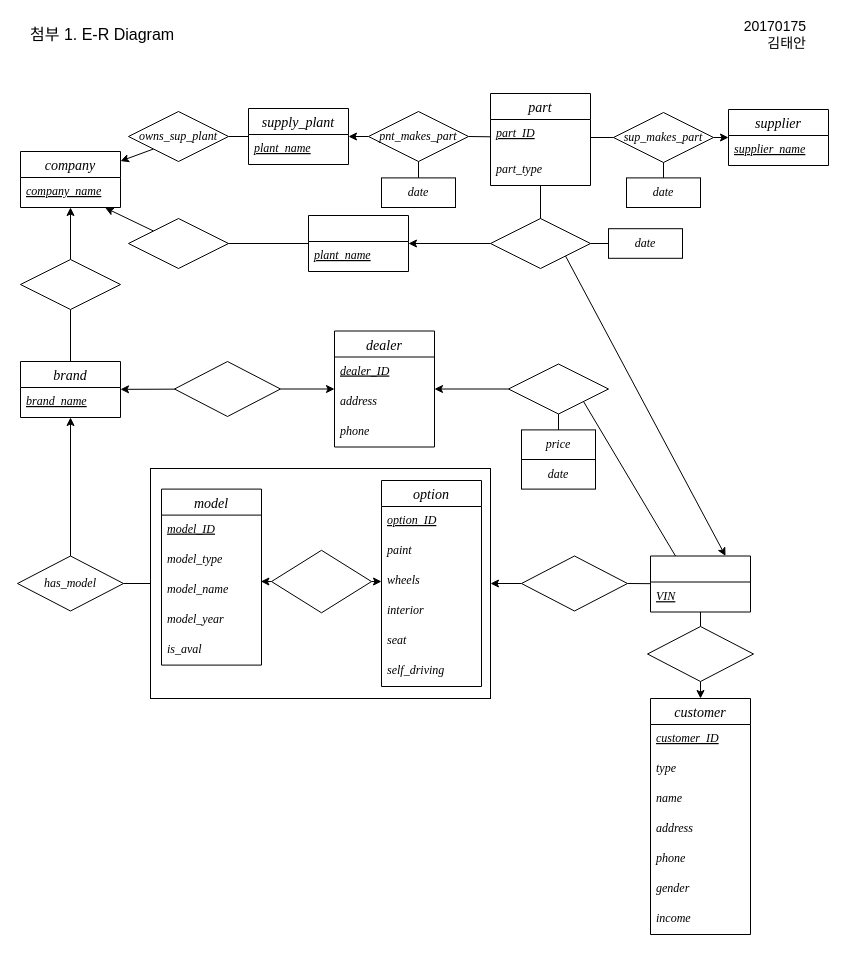
Image size: 846x954. Some labels were removed from this diagram. Here are the shapes that lost their labels. From the top down, the box of each, then its label:
(128, 218, 228, 268): owns_asm_plant
(308, 214, 408, 272): assembly_plant
(490, 218, 590, 268): makes_vehicle
(20, 258, 120, 310): owns_brand
(174, 360, 280, 416): sells_brand
(508, 363, 608, 414): sells_vehicle
(270, 549, 372, 613): option_aval
(520, 555, 628, 611): has_model_opt
(650, 555, 750, 612): vehicle
(646, 626, 754, 682): owns_vehicle
